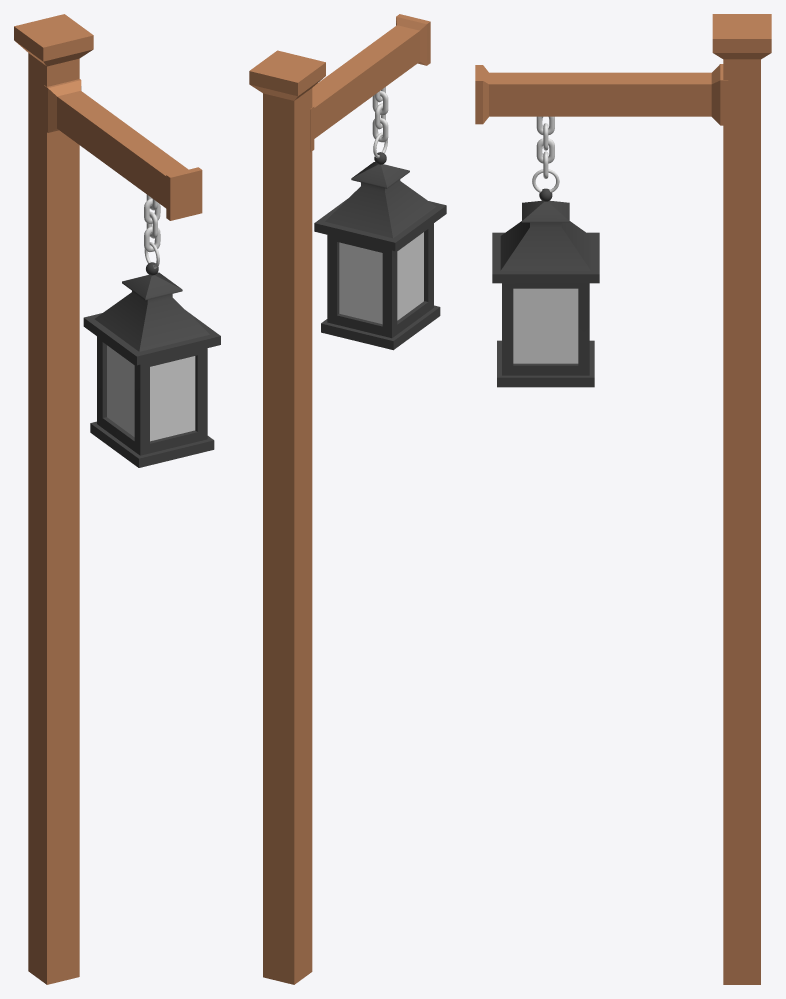
Rendered from LamparasV2.fbx.
3 views of the same model, side by side, from view 1: azimuth 30°, elevation 25°; view 2: azimuth 150°, elevation 25°; view 3: azimuth 270°, elevation 25° (orthographic). The views are drawn at different scales.
Parts seen in each view (by area): view 1: Cube.002, Cube.005, Cube.007, Cube.006, Cube.008, chain.002; view 2: Cube.002, Cube.007, Cube.005, Cube.006, Cube.008, chain.002; view 3: Cube.002, Cube.005, Cube.007, Cube.008, Cube.006.
Part boxes in pixels (<box>): Cube.002: <box>14,14,93,984</box>; Cube.005: <box>44,79,202,220</box>; Cube.007: <box>83,272,220,365</box>; Cube.006: <box>90,336,214,467</box>; Cube.008: <box>107,345,195,441</box>; chain.002: <box>144,198,160,252</box>; Cube.002: <box>249,50,325,984</box>; Cube.007: <box>314,162,446,251</box>; Cube.005: <box>310,14,430,152</box>; Cube.006: <box>321,223,440,350</box>; Cube.008: <box>339,232,423,324</box>; chain.002: <box>372,90,388,142</box>; Cube.002: <box>712,14,771,984</box>; Cube.005: <box>475,64,728,125</box>; Cube.007: <box>492,200,599,283</box>; Cube.008: <box>513,288,578,363</box>; Cube.006: <box>497,283,594,387</box>.
Bounding box in the file's own units: 44.65 × 478 × 135.
